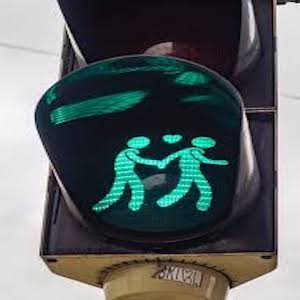green: (96, 127, 215, 215)
